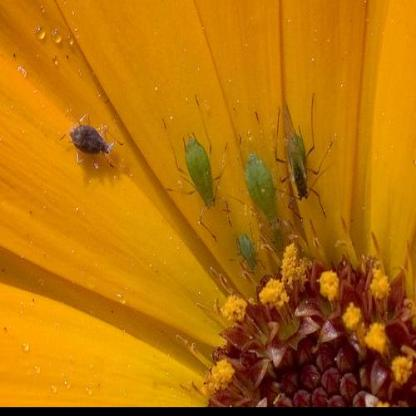aphid: (265, 95, 341, 211), (163, 109, 235, 217), (60, 107, 126, 176), (241, 140, 288, 224), (229, 223, 256, 276)
